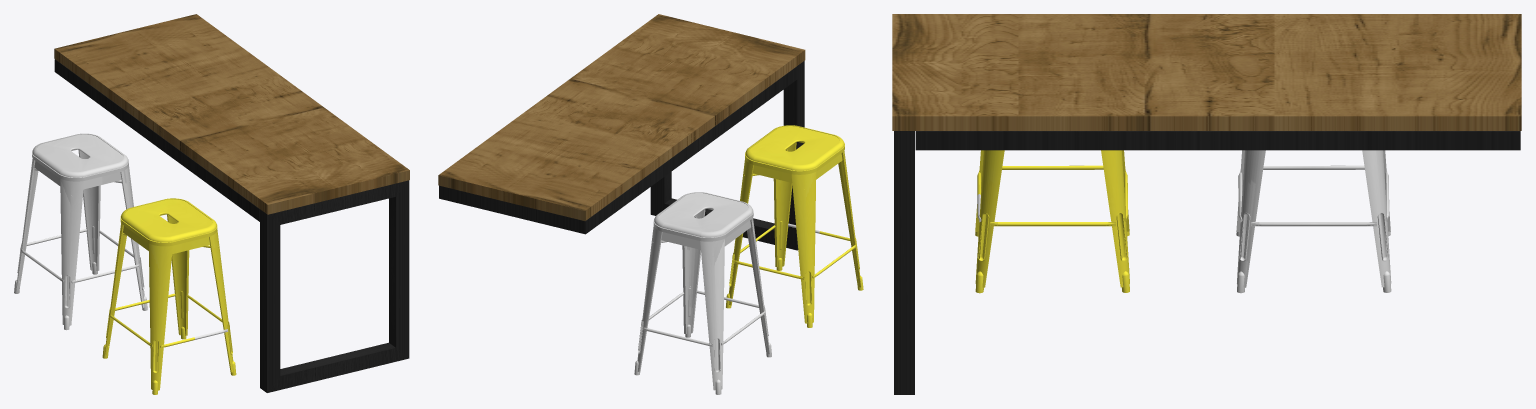
The model's file is mesa 2 sillas.fbx.
The picture shows the model from 3 angles, left to right: view 1: azimuth 30°, elevation 25°; view 2: azimuth 150°, elevation 25°; view 3: azimuth 270°, elevation 25°; orthographic projection. The views are drawn at different scales.
Parts seen in each view (by area): view 1: tabla_madera, patas_metal, Polygon_8, Polygon_24, soporte_metal, Polygon_26, Polygon_3, Polygon_31, Polygon, Polygon_13, Polygon_19, Polygon_42 (+1 smaller); view 2: tabla_madera, soporte_metal, Polygon_24, Polygon_8, Polygon_42, Polygon_19, patas_metal, Polygon_36, Polygon_13, Polygon_31, Polygon_26, Polygon_3 (+1 smaller); view 3: tabla_madera, soporte_metal, patas_metal, Polygon_36, Polygon_13, Polygon, Polygon_31.
Part boxes in pixels (x1,y1,x2,y2): tabla_madera: [54, 14, 409, 214]; patas_metal: [260, 180, 409, 392]; Polygon_8: [120, 198, 217, 246]; Polygon_24: [32, 133, 128, 181]; soporte_metal: [54, 59, 259, 221]; Polygon_26: [47, 170, 102, 325]; Polygon_3: [136, 235, 190, 390]; Polygon_31: [71, 149, 100, 270]; Polygon: [160, 214, 189, 335]; Polygon_13: [190, 230, 233, 372]; Polygon_19: [104, 223, 136, 355]; Polygon_42: [16, 159, 47, 290]; tabla_madera: [438, 14, 805, 220]; soporte_metal: [439, 66, 797, 234]; Polygon_24: [653, 192, 753, 241]; Polygon_8: [745, 125, 844, 174]; Polygon_42: [681, 230, 737, 390]; Polygon_19: [772, 163, 828, 323]; patas_metal: [650, 61, 804, 250]; Polygon_36: [682, 208, 712, 333]; Polygon_13: [773, 141, 804, 267]; Polygon_31: [637, 225, 681, 372]; Polygon_26: [737, 218, 769, 354]; Polygon_3: [828, 151, 861, 287]; tabla_madera: [892, 14, 1521, 130]; soporte_metal: [915, 131, 1520, 150]; patas_metal: [894, 131, 914, 394]; Polygon_36: [1237, 150, 1265, 287]; Polygon_13: [975, 150, 1004, 287]; Polygon: [1101, 150, 1129, 287]; Polygon_31: [1362, 150, 1391, 287].
Size of the model in its own units: 120 by 95.68 by 194.
